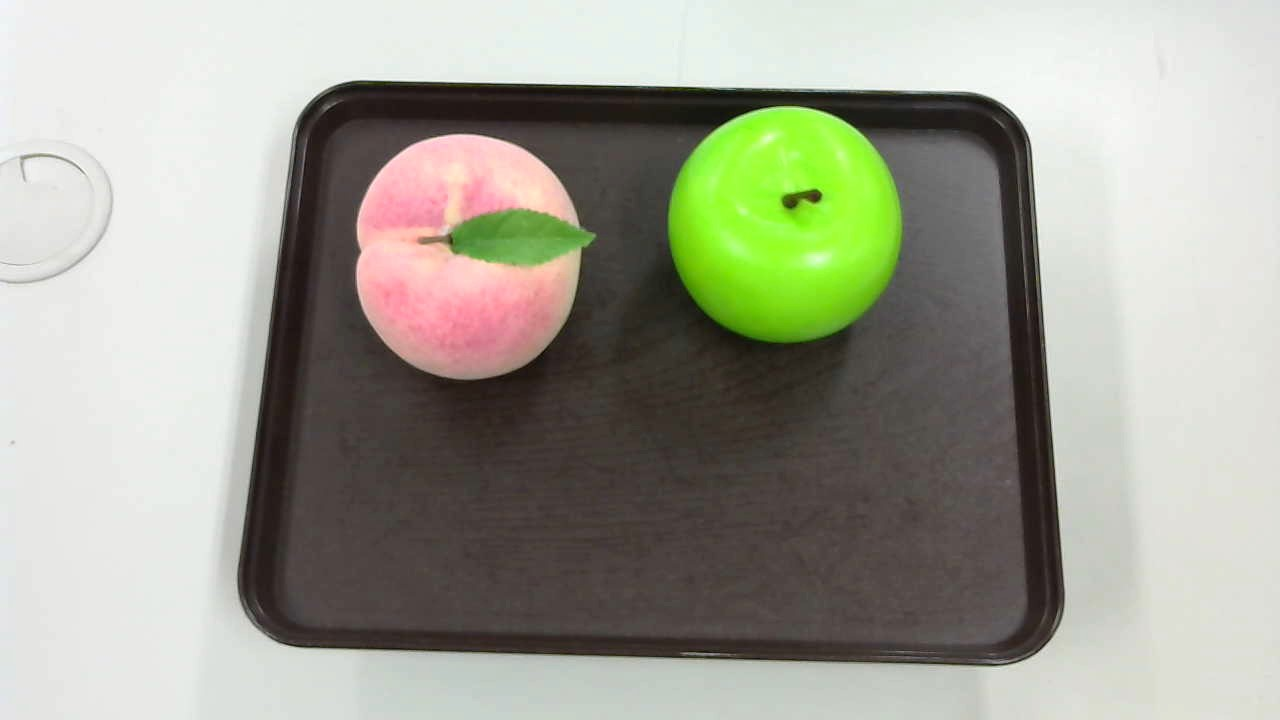green apple: (659, 98, 905, 344)
peach: (356, 130, 596, 386)
